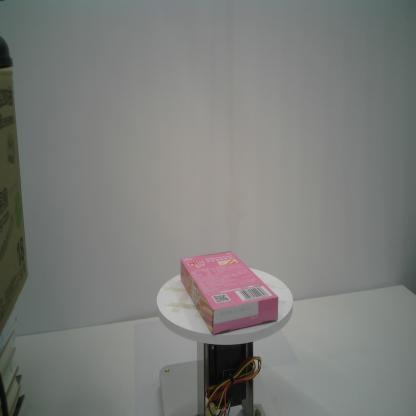Dessert: (180, 250, 280, 336)
